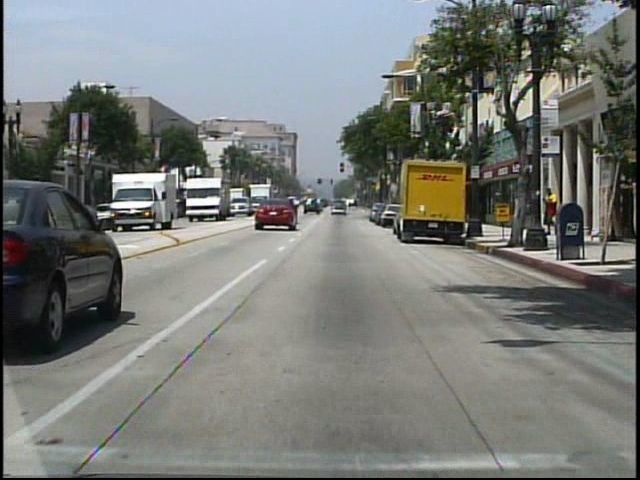person: (542, 186, 559, 235)
